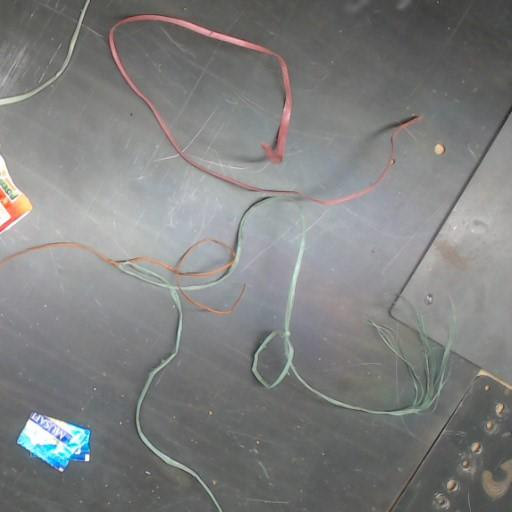conveyor belt: (0, 0, 511, 407), (144, 203, 473, 511), (144, 202, 471, 511), (0, 249, 212, 511), (0, 249, 212, 511), (449, 240, 511, 380)
packet: (17, 413, 90, 471), (0, 155, 31, 233)
thread: (0, 15, 419, 321), (252, 215, 443, 415), (0, 0, 89, 105)
